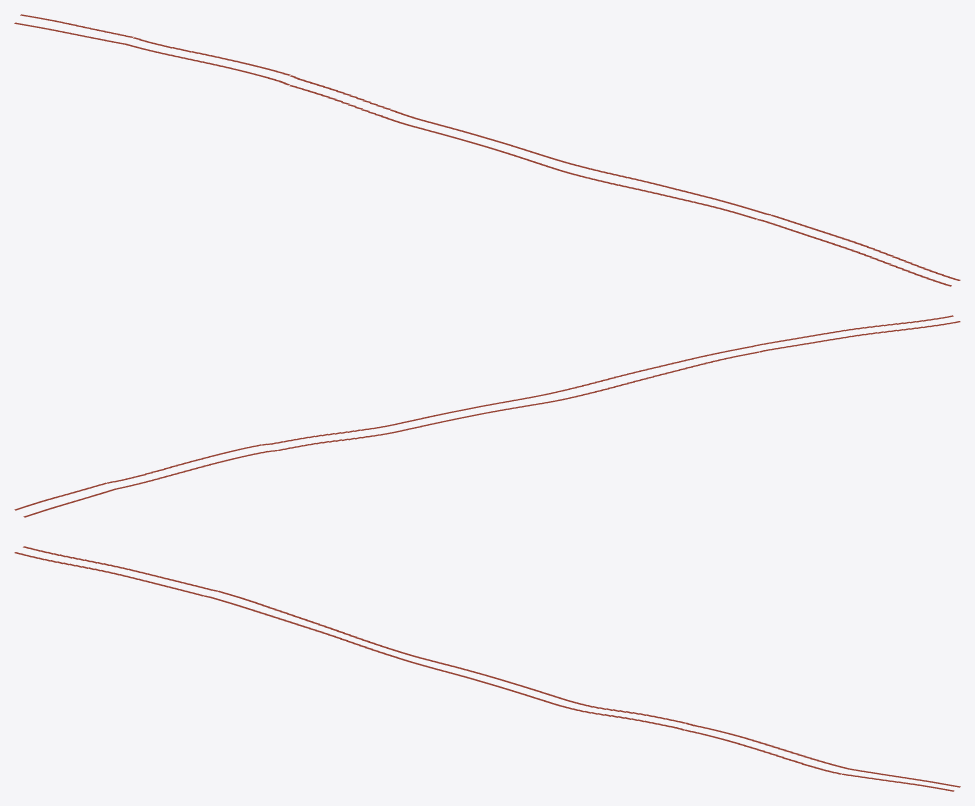
File: cycle2.glb
The picture shows the model from 3 angles, top to bottom: view 1: azimuth 90°, elevation 25°; view 2: azimuth 150°, elevation 25°; view 3: azimuth 270°, elevation 25°; orthographic projection. The views are drawn at different scales.
Parts seen in each view (by area): view 1: cycle2_lod0; view 2: cycle2_lod0; view 3: cycle2_lod0.
Boxes of the visible parts, left/top/right/bottom form: cycle2_lod0: left=14, top=14, right=960, bottom=286; cycle2_lod0: left=14, top=315, right=960, bottom=517; cycle2_lod0: left=14, top=546, right=960, bottom=791.
Size of what is drawn, in the model's own units: 235 by 6.09 by 364.
